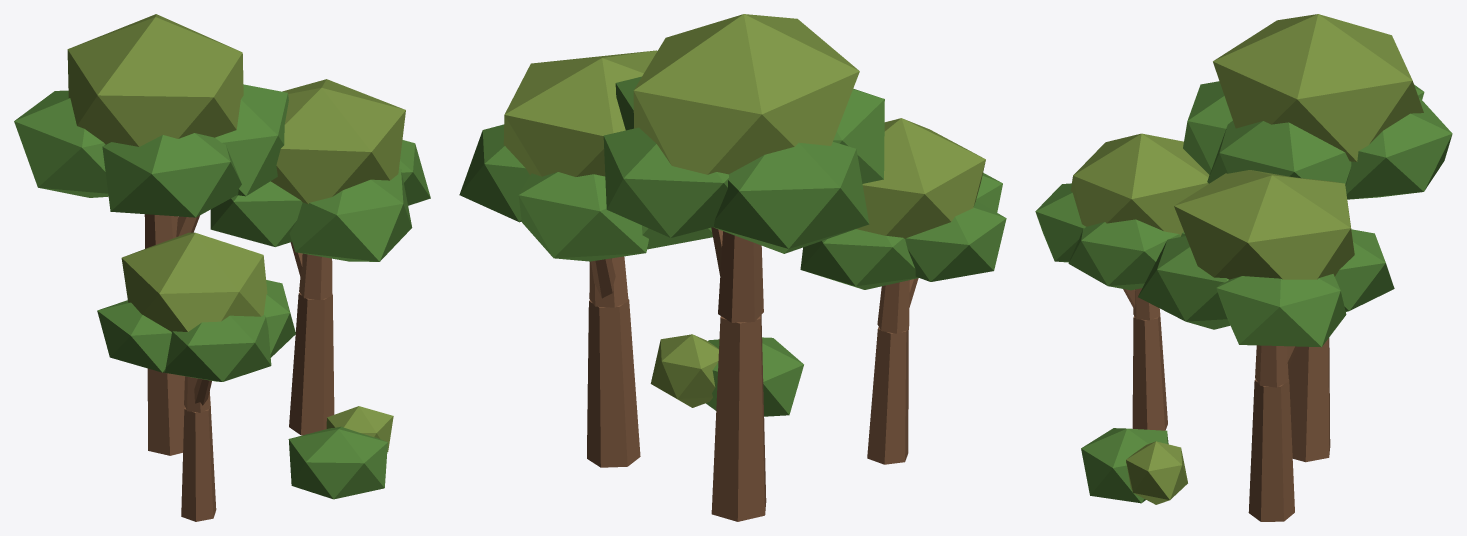
Rendered from leaf_trees.glb.
3 views of the same model, side by side, from view 1: azimuth 30°, elevation 25°; view 2: azimuth 150°, elevation 25°; view 3: azimuth 270°, elevation 25° (orthographic). The views are drawn at different scales.
Visible parts, largest first — view 1: Leaf trees Leaves, Leaf trees Leaves light, Leaf trees Bark; view 2: Leaf trees Leaves light, Leaf trees Leaves, Leaf trees Bark; view 3: Leaf trees Leaves light, Leaf trees Leaves, Leaf trees Bark.
Boxes of the visible parts, x1,y1,x2,y2 form: Leaf trees Leaves: [14, 84, 430, 499]; Leaf trees Leaves light: [67, 14, 405, 451]; Leaf trees Bark: [144, 214, 334, 521]; Leaf trees Leaves light: [503, 14, 985, 407]; Leaf trees Leaves: [459, 76, 1006, 416]; Leaf trees Bark: [587, 227, 918, 521]; Leaf trees Leaves light: [1070, 14, 1423, 504]; Leaf trees Leaves: [1035, 81, 1452, 503]; Leaf trees Bark: [1123, 288, 1330, 521].
Size of the model in its own units: 1.5 by 1.65 by 1.44.
